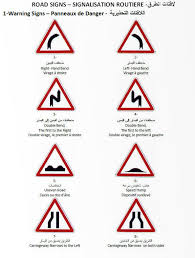Double_bend_left: (110, 75, 161, 113)
